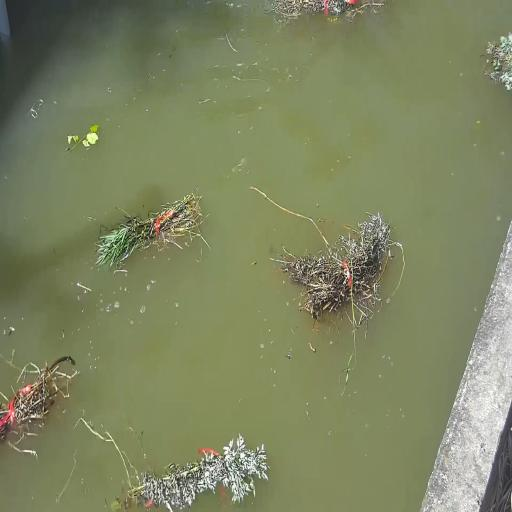twig: (286, 203, 411, 319), (114, 437, 273, 512), (105, 181, 200, 273), (0, 346, 77, 436), (253, 0, 386, 28), (64, 110, 106, 184), (478, 30, 512, 100)
